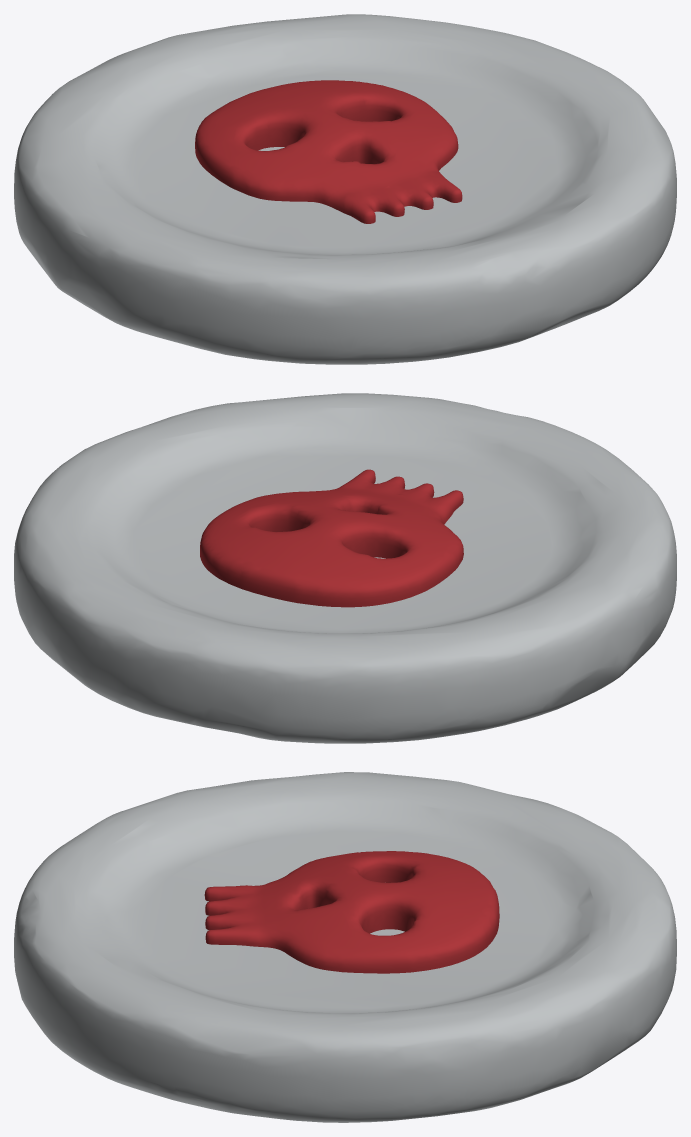
The model's file is token-necromancer-blue-draco.glb.
3 renders of one model, top to bottom at view 1: azimuth 30°, elevation 25°; view 2: azimuth 150°, elevation 25°; view 3: azimuth 270°, elevation 25°, orthographic.
Visible parts, largest first — view 1: token_necromancer_blue; view 2: token_necromancer_blue; view 3: token_necromancer_blue.
Part boxes in pixels (box(x1,y1,x2,y2)): token_necromancer_blue: box(14, 14, 676, 364); token_necromancer_blue: box(14, 393, 676, 743); token_necromancer_blue: box(14, 772, 676, 1122).
Bounding box in the file's own units: 0.4139 × 0.072 × 0.414.
